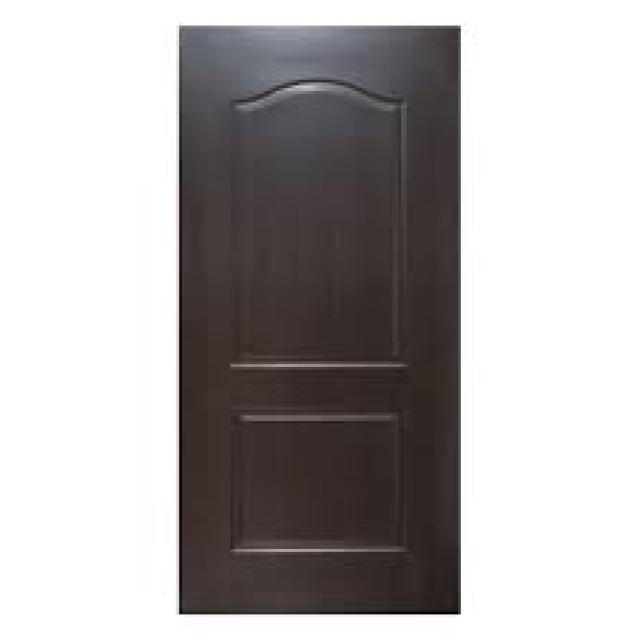door: (178, 24, 462, 616)
